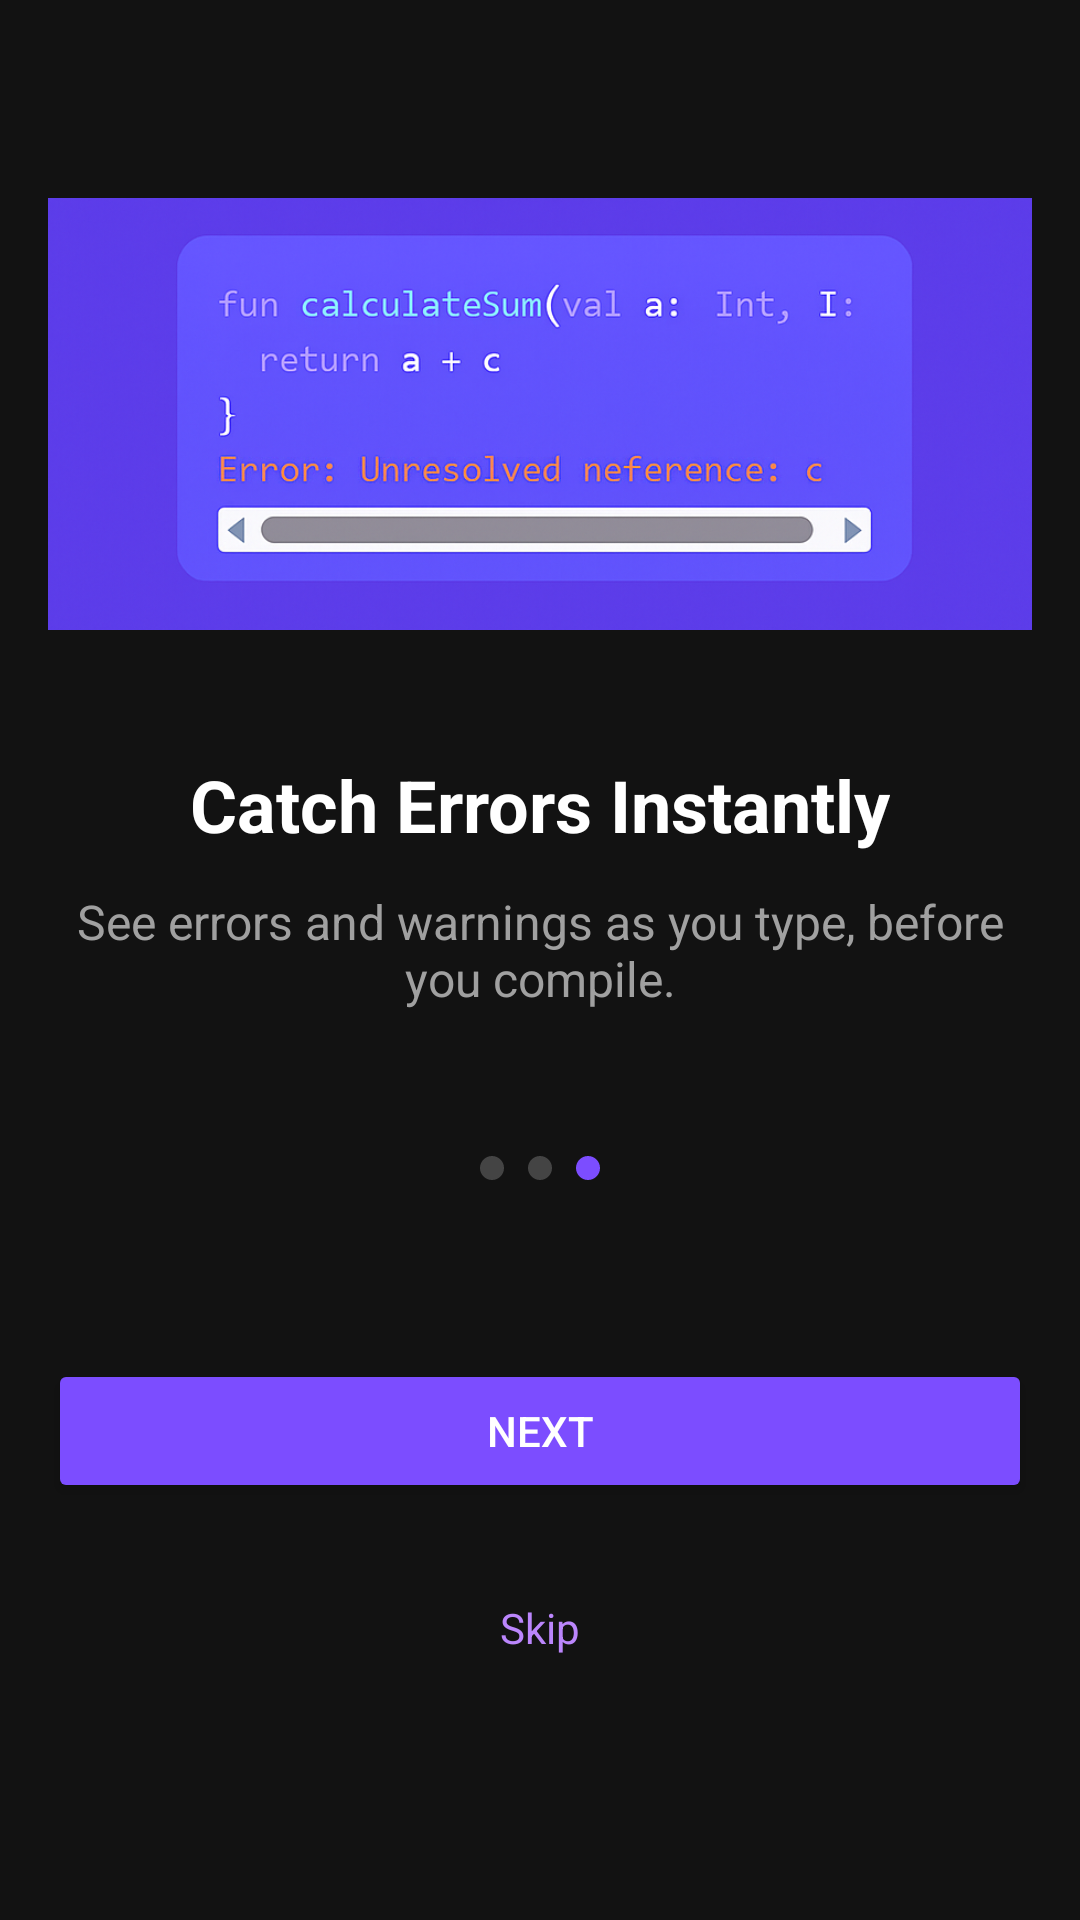

Named icons in this screenshot (1080×1920) and their bounding boxes, (x1, y1, x2, y2):
indicator dot: (576, 1156, 600, 1180)
